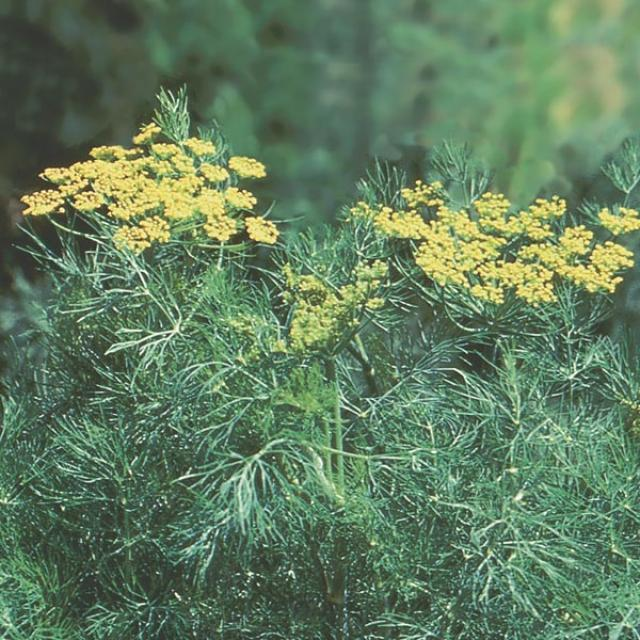Dill: (20, 69, 639, 605)
